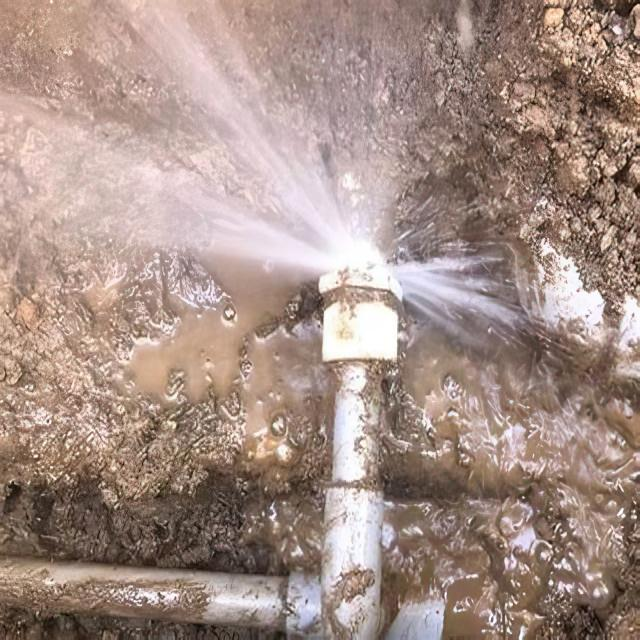leak: (130, 3, 381, 278), (390, 257, 516, 332)
